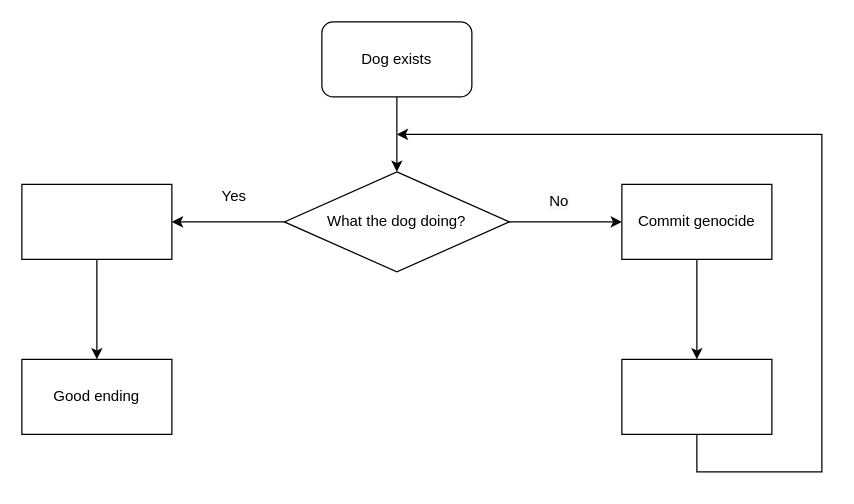
The diagram is 854 pixels wide and 504 high, and some of its shapes have lost their labels. The centre of each missing label's shape, as x and y in pixels:
Science goes boom and stuff (time travel and big cool things): the point at 96,221
Start new civilization: the point at 696,396
